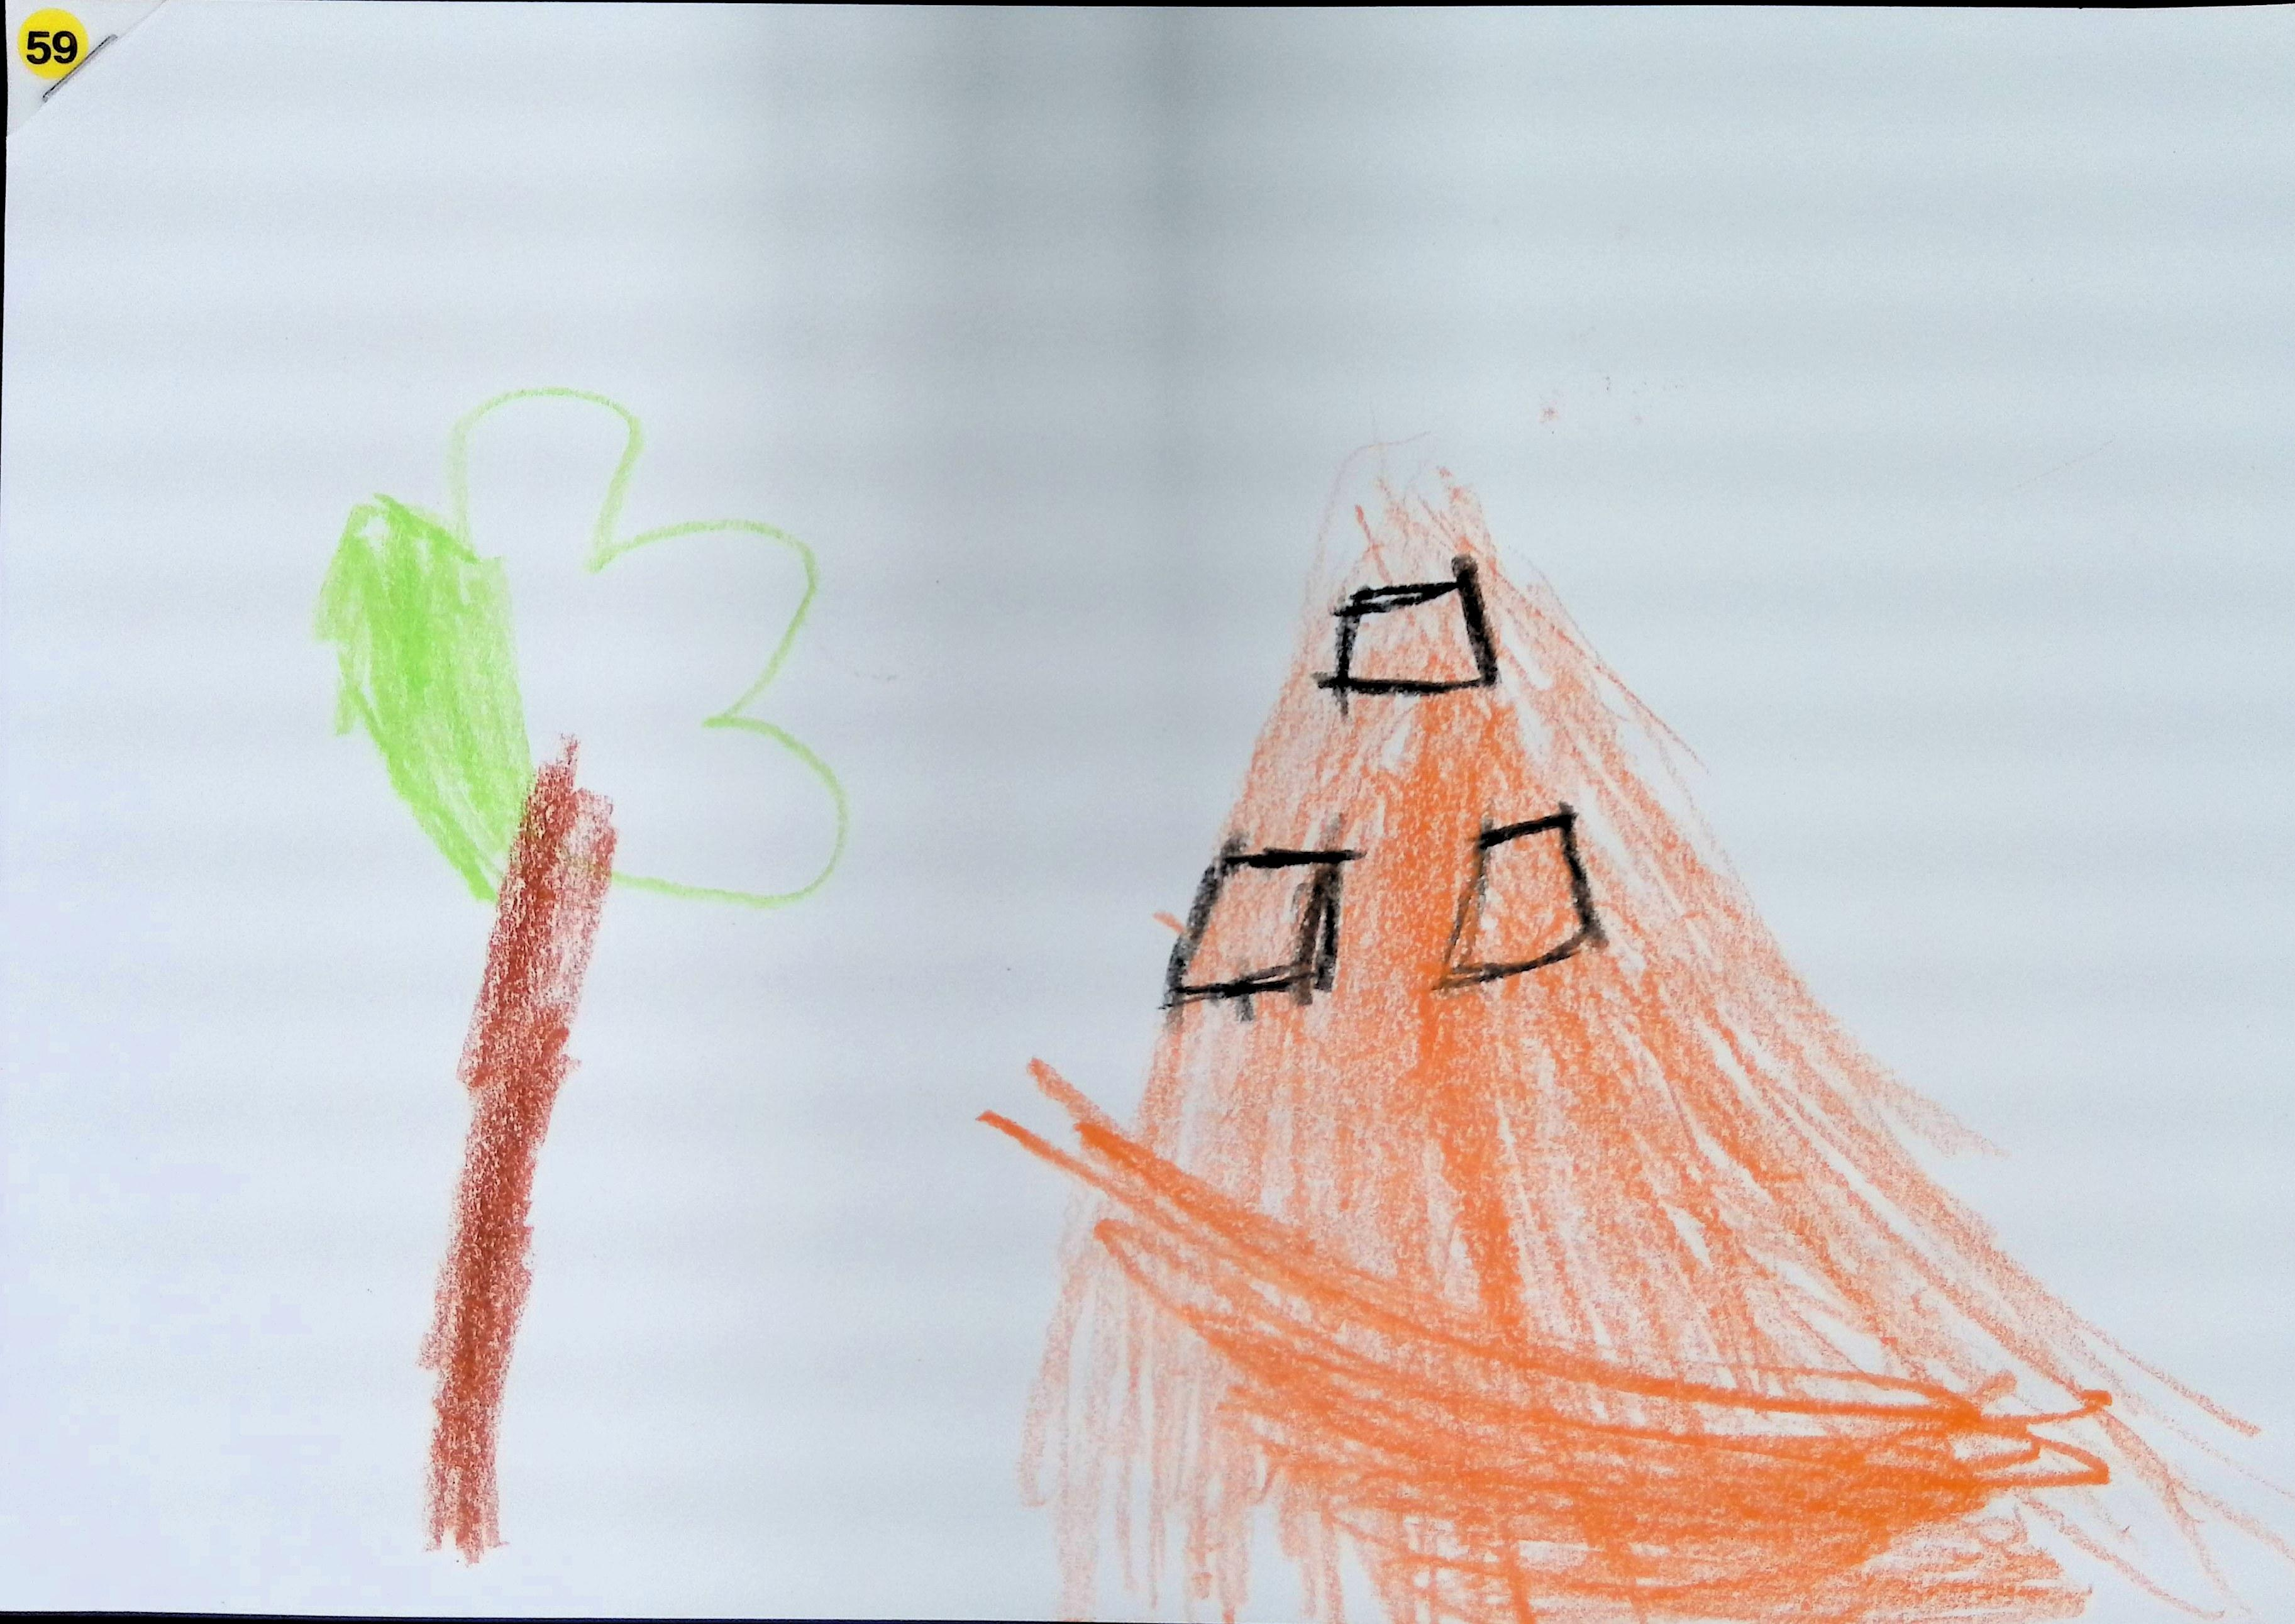house: (1051, 434, 2270, 1624)
window: (1155, 844, 1348, 1009), (1432, 808, 1597, 991), (1328, 575, 1495, 689)
